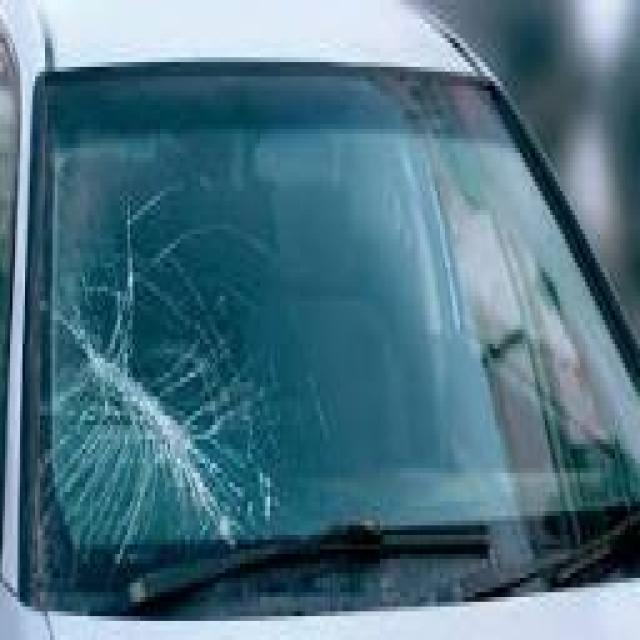Windshield: (31, 57, 400, 610)
